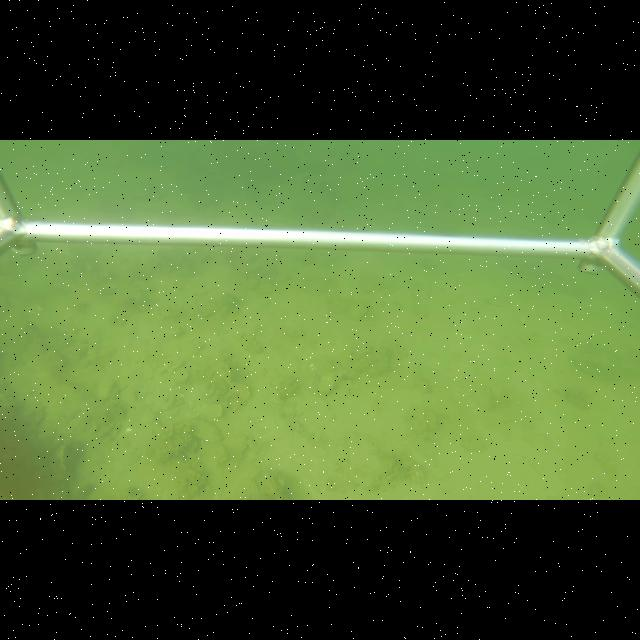Oyster-Closed: (316, 372, 336, 396)
